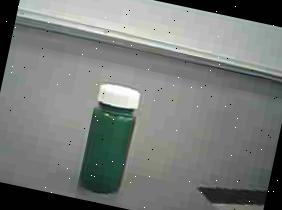Bottle C: (64, 74, 159, 207)
